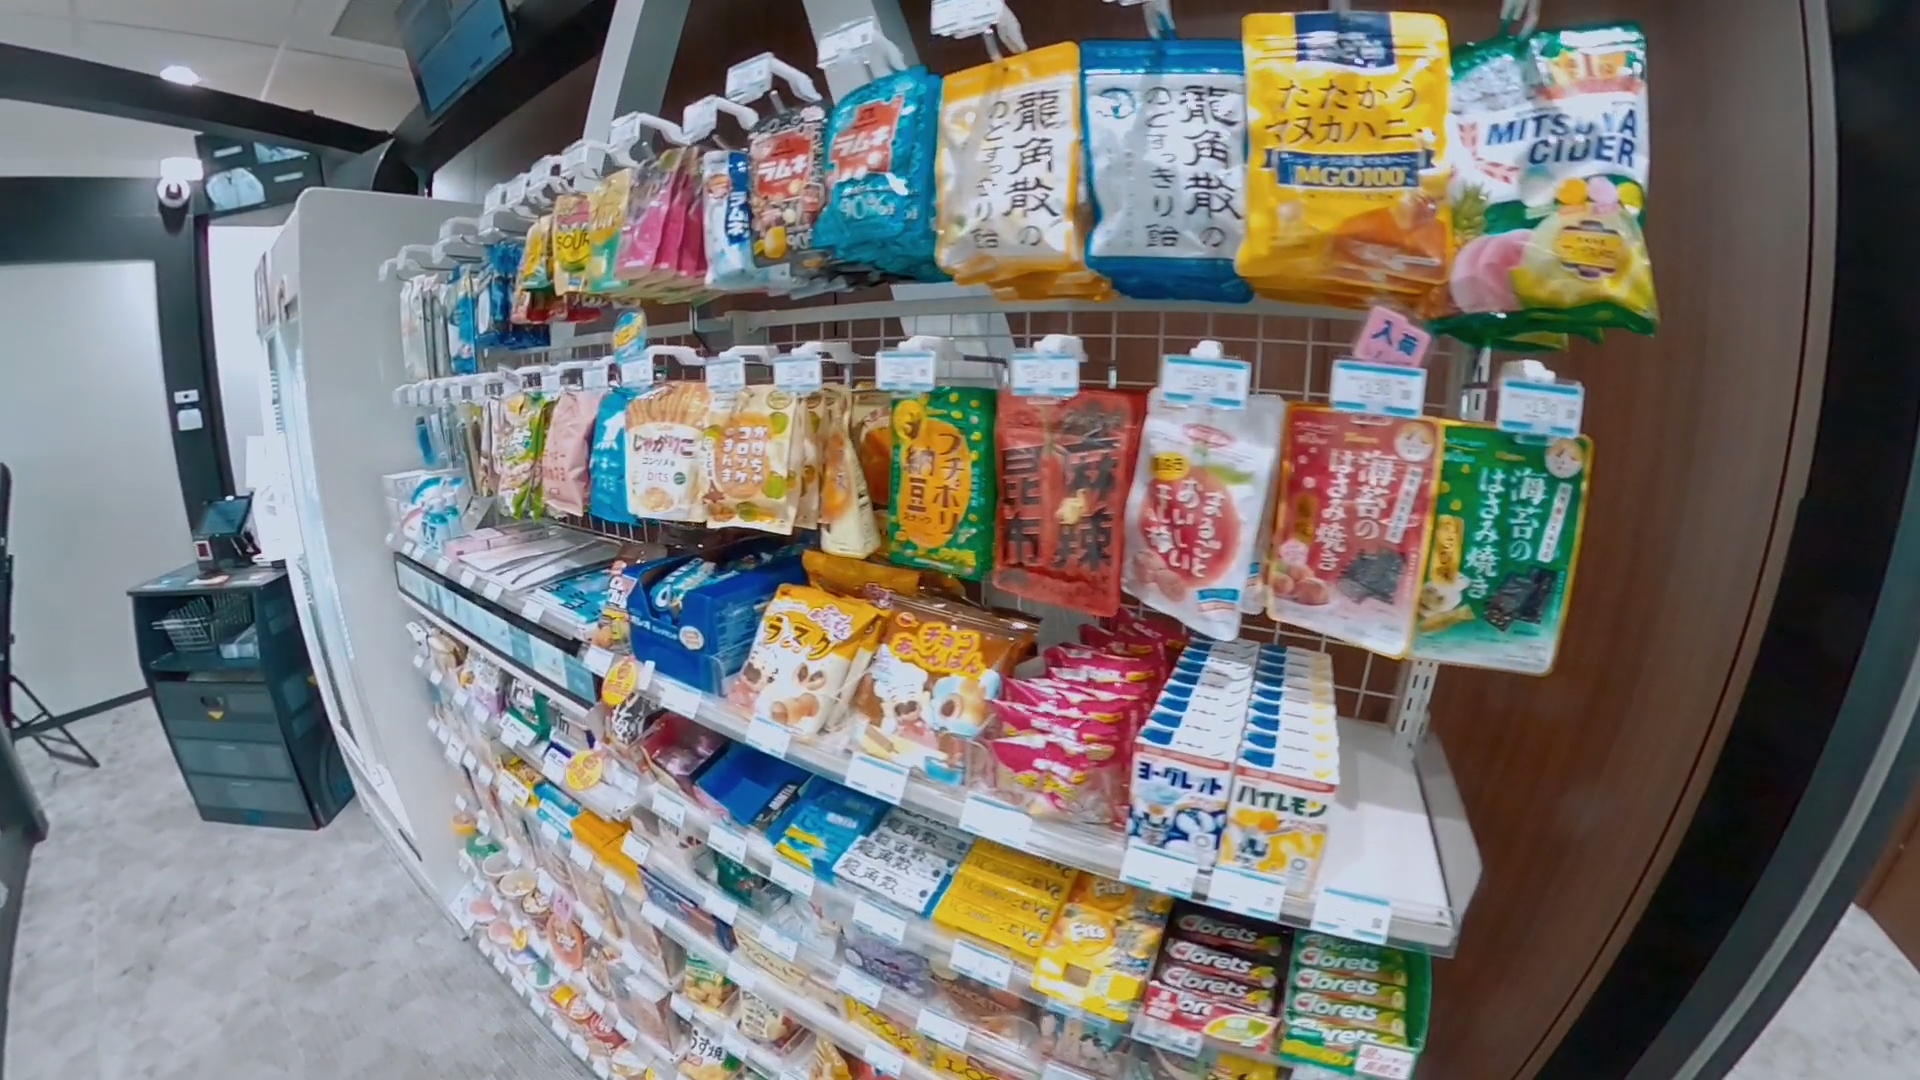NorinoHasamiyaki: (1412, 424, 1589, 679)
